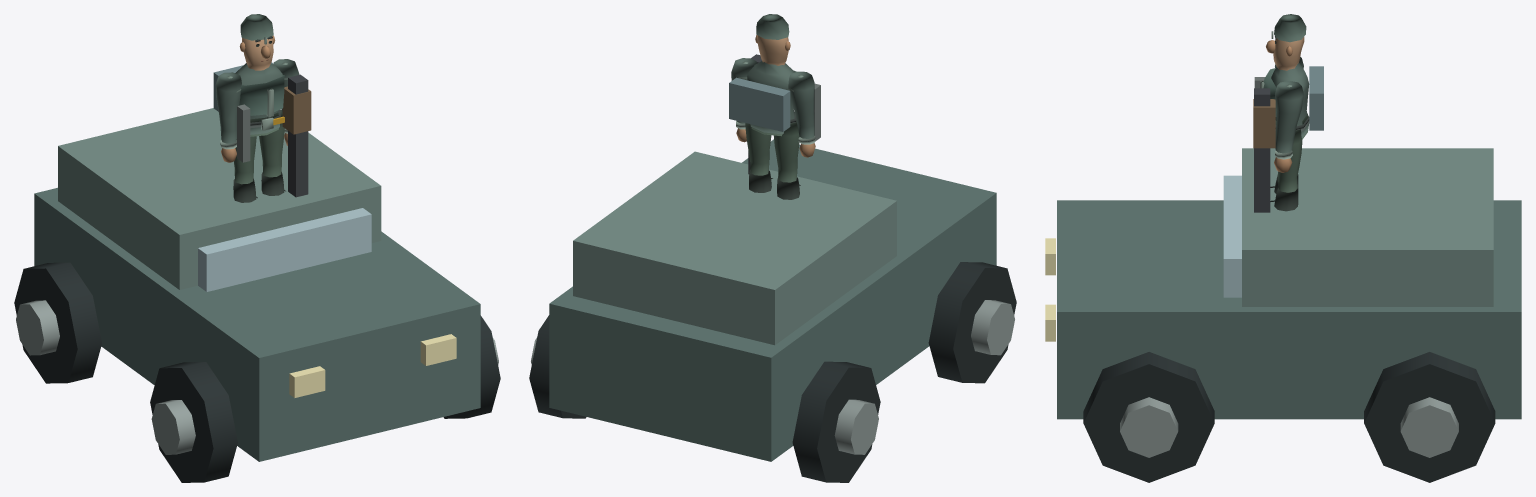
File: motorized_team3.glb
The picture shows the model from 3 angles, left to right: view 1: azimuth 30°, elevation 25°; view 2: azimuth 150°, elevation 25°; view 3: azimuth 270°, elevation 25°; orthographic projection. The views are drawn at different scales.
Visible parts, largest first — view 1: part_11, part_12, part_13, part_15, part_17, part_0, part_16, part_18, part_2, part_21, part_5, part_1 (+6 smaller); view 2: part_11, part_12, part_15, part_17, part_10, part_16, part_18, part_2, part_19, part_7, part_1, part_8 (+2 smaller); view 3: part_11, part_12, part_21, part_19, part_22, part_20, part_13, part_4, part_1, part_5, part_0, part_8 (+2 smaller).
Boxes of the visible parts, x1,y1,x2,y2 form: part_11: (34,187,480,461); part_12: (58,108,381,289); part_13: (198,208,371,291); part_15: (14,262,101,383); part_17: (150,362,237,482); part_0: (235,63,284,136); part_16: (16,300,59,355); part_18: (151,400,195,454); part_2: (215,72,241,162); part_21: (443,315,500,418); part_5: (288,74,308,197); part_1: (239,14,275,70); part_11: (549,139,996,461); part_12: (573,151,896,345); part_15: (792,361,880,482); part_17: (928,262,1016,383); part_10: (729,77,790,131); part_16: (834,399,878,454); part_18: (971,300,1014,355); part_2: (788,71,815,157); part_19: (529,315,586,418); part_7: (773,120,800,199); part_1: (755,14,790,65); part_8: (745,123,772,192); part_11: (1057,200,1521,419); part_12: (1242,148,1493,306); part_21: (1083,352,1214,482); part_19: (1364,352,1495,482); part_22: (1120,397,1178,457); part_20: (1400,397,1458,457); part_13: (1223,175,1241,297); part_4: (1274,81,1303,172); part_1: (1266,14,1306,70); part_5: (1254,88,1270,212); part_0: (1260,63,1309,139); part_8: (1270,129,1302,211).
Size of the model in its own units: 2.09 by 2.37 by 2.62.
